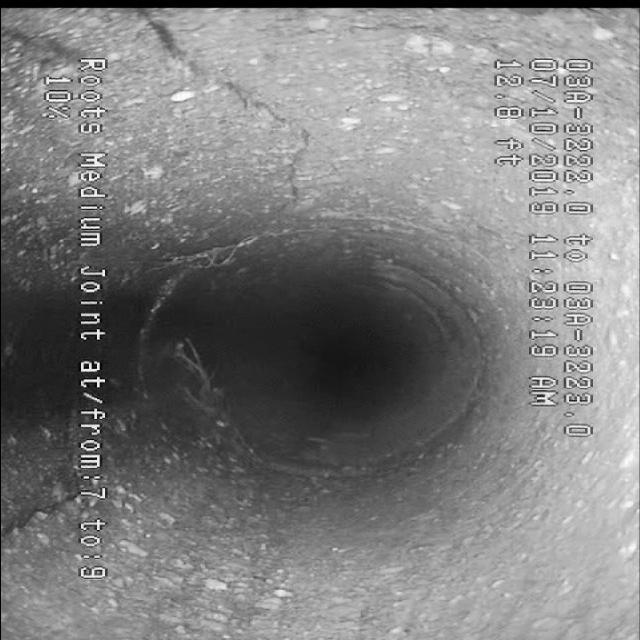Crack: (140, 44, 330, 192)
